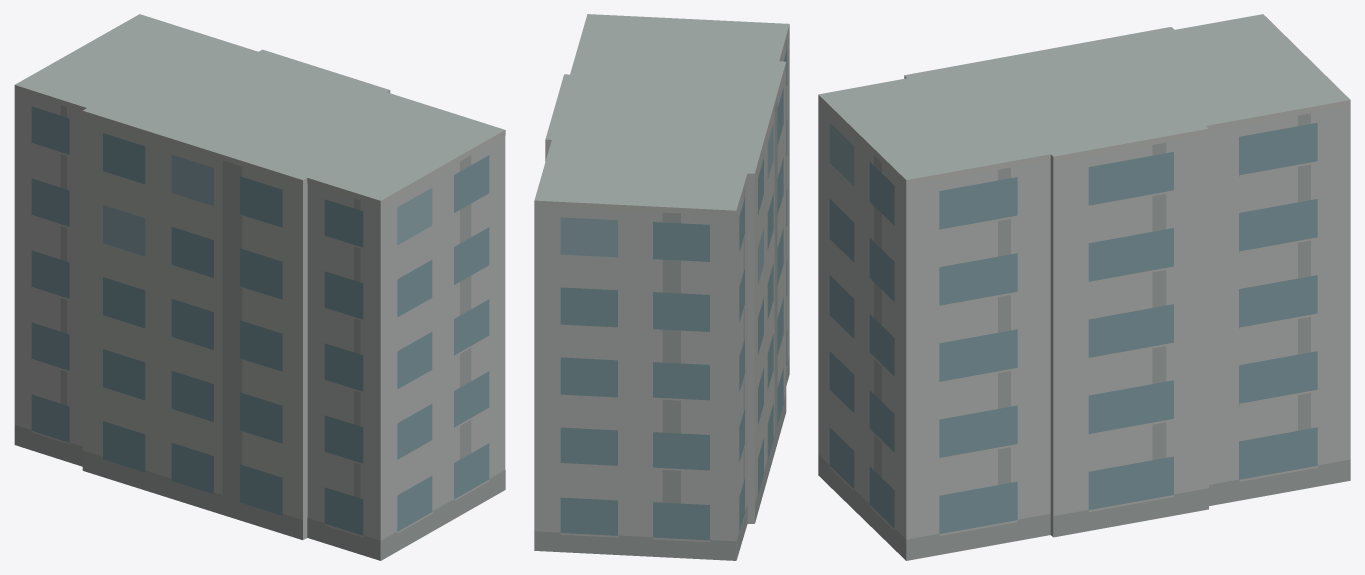
File: survey-upis-32632927.glb
3 renders of one model, left to right at view 1: azimuth 30°, elevation 25°; view 2: azimuth 150°, elevation 25°; view 3: azimuth 270°, elevation 25°, orthographic. The views are drawn at different scales.
Parts seen in each view (by area): view 1: survey-upis-32632927.tmp; view 2: survey-upis-32632927.tmp; view 3: survey-upis-32632927.tmp.
Part boxes in pixels (x1,y1,x2,y2): survey-upis-32632927.tmp: (14,14,505,560); survey-upis-32632927.tmp: (534,14,789,560); survey-upis-32632927.tmp: (818,14,1350,560).
Bounding box in the file's own units: 14.28 × 15.25 × 19.34.
